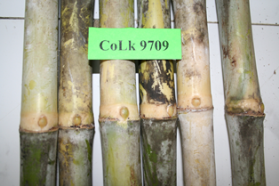cane eye: (71, 114, 84, 128), (119, 106, 132, 119), (37, 115, 48, 129), (165, 103, 174, 118), (191, 97, 202, 109)
